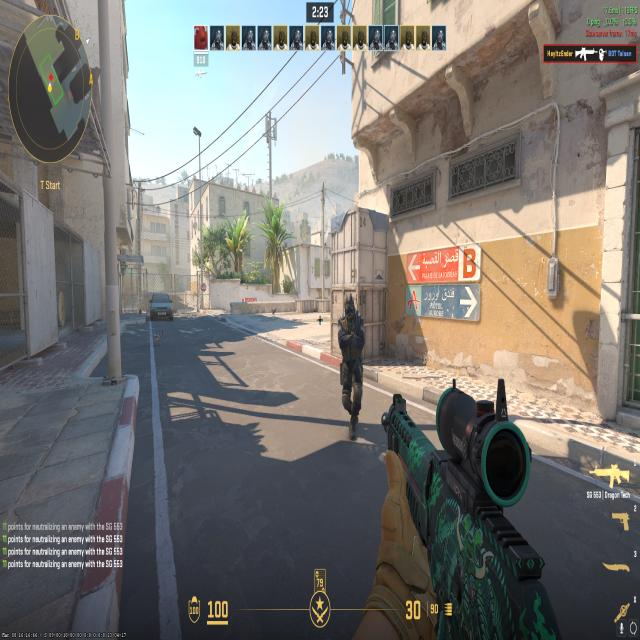ct: (332, 288, 368, 441)
